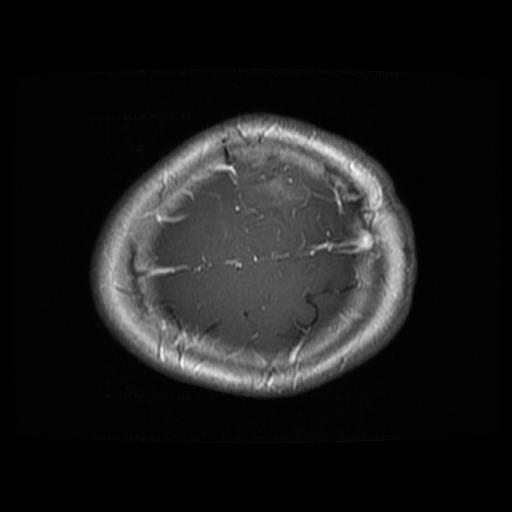glioma: (235, 158, 309, 216)
